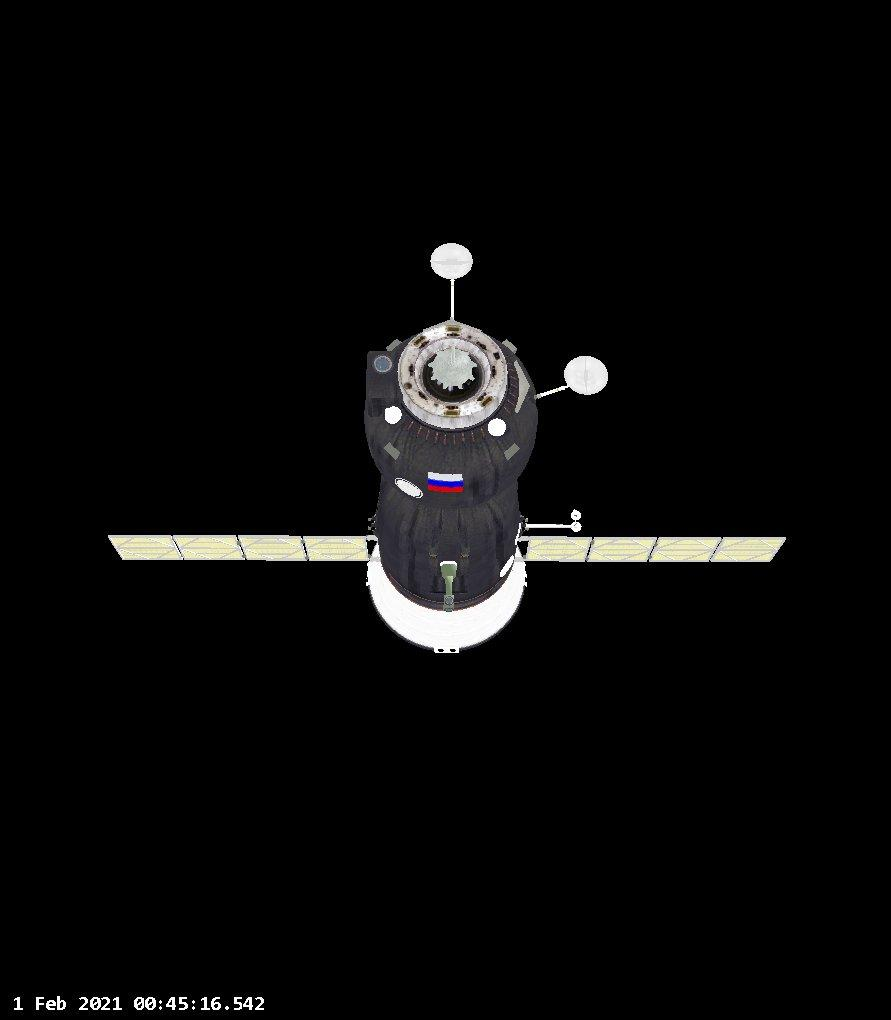antenna: (411, 336, 486, 404), (562, 354, 610, 394), (427, 241, 474, 279), (393, 475, 425, 500), (487, 417, 507, 437), (499, 554, 514, 579), (385, 406, 403, 425), (570, 522, 583, 533), (570, 509, 582, 520)
body: (360, 319, 538, 643)
solar: (105, 531, 371, 565), (512, 533, 787, 563)
